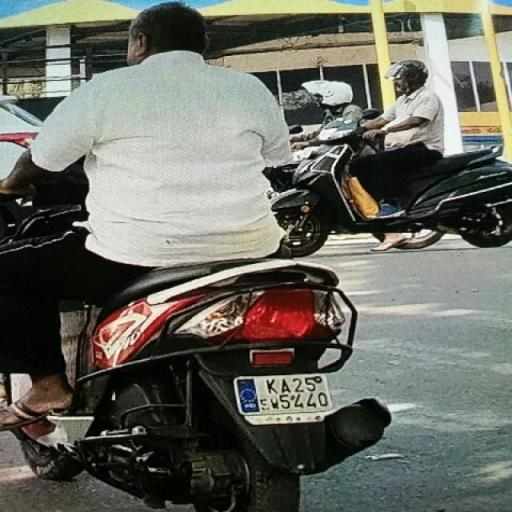bike: (0, 0, 399, 512)
numberplate: (235, 372, 334, 416)
withouthelmet: (130, 3, 208, 55)
